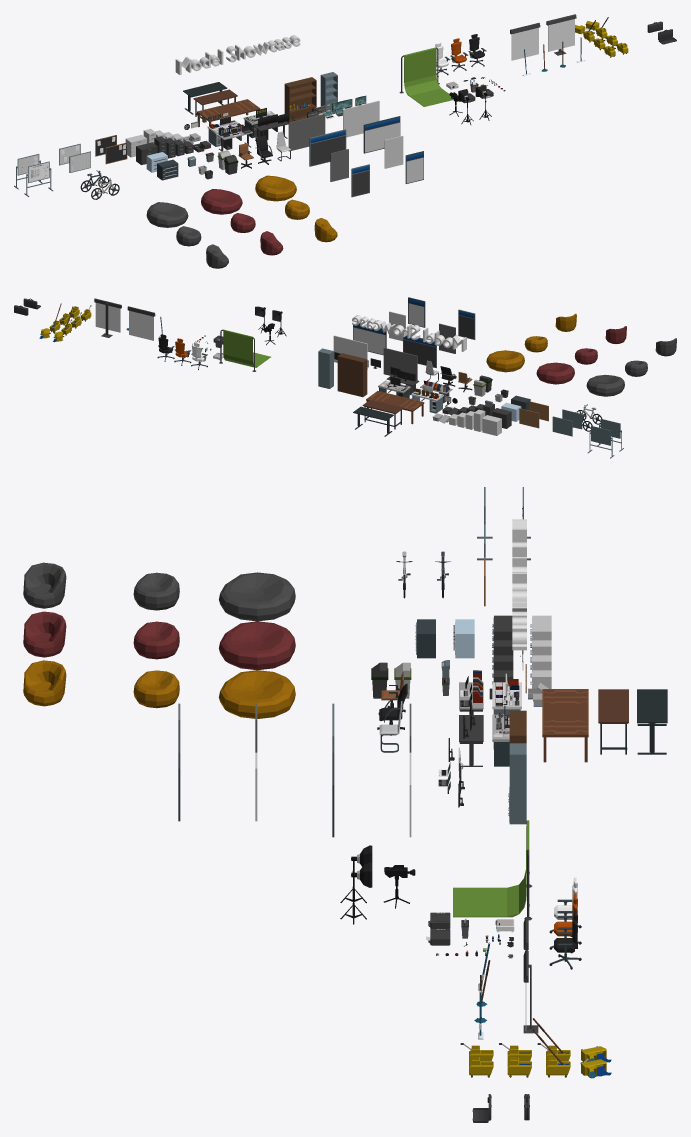
File: ModelShowcase.fbx
The picture shows the model from 3 angles, top to bottom: view 1: azimuth 30°, elevation 25°; view 2: azimuth 150°, elevation 25°; view 3: azimuth 270°, elevation 25°; orthographic projection. The views are drawn at different scales.
Parts seen in each view (by area): view 1: GreenScreenV1, ModelShowcase, BookshelfV1, CubicleWallV2Light, CubicleWallV2Dark, CubicleWallV1Black, CubicleWallV1White, SaccoChairV1Orange, SaccoChairV1Red, SaccoChairV1Grey, ProjectorScreenV1_Cloth, MeetingDeskV1 (+15 smaller); view 2: ModelShowcase, GreenScreenV1, BookshelfV1, CubicleWallV1Black, CubicleWallV2Dark, SaccoChairV1Orange, SaccoChairV1Red, SaccoChairV1Grey, CubicleWallV2Light, MeetingDeskV1, ProjectorScreenV1_Cloth, BookshelfV2 (+24 smaller); view 3: SaccoChairV1Red, SaccoChairV1Grey, SaccoChairV1Orange, GreenScreenV1, MeetingDeskV1, ModelShowcase, SaccoChairV3Red, SaccoChairV3Orange, SaccoChairV3Gray, BookshelfV2, SaccoChairV2Red, SaccoChairV2Grey (+3 smaller).
Part boxes in pixels (left/top/right/bottom): GreenScreenV1: left=399, top=47, right=453, bottom=106; ModelShowcase: left=175, top=35, right=300, bottom=74; BookshelfV1: left=284, top=77, right=316, bottom=122; CubicleWallV2Light: left=363, top=116, right=400, bottom=153; CubicleWallV2Dark: left=309, top=129, right=346, bottom=166; CubicleWallV1Black: left=288, top=114, right=325, bottom=151; CubicleWallV1White: left=343, top=100, right=379, bottom=137; SaccoChairV1Orange: left=255, top=175, right=296, bottom=201; SaccoChairV1Red: left=201, top=189, right=242, bottom=214; SaccoChairV1Grey: left=146, top=202, right=188, bottom=227; ProjectorScreenV1_Cloth: left=511, top=27, right=538, bottom=60; MeetingDeskV1: left=197, top=99, right=260, bottom=127; ModelShowcase: left=352, top=315, right=466, bottom=351; GreenScreenV1: left=219, top=329, right=270, bottom=371; BookshelfV1: left=337, top=353, right=367, bottom=397; CubicleWallV1Black: left=383, top=347, right=417, bottom=380; CubicleWallV2Dark: left=403, top=335, right=436, bottom=368; SaccoChairV1Orange: left=486, top=350, right=524, bottom=372; SaccoChairV1Red: left=536, top=362, right=574, bottom=384; SaccoChairV1Grey: left=586, top=374, right=624, bottom=396; CubicleWallV2Light: left=353, top=323, right=386, bottom=355; MeetingDeskV1: left=366, top=391, right=424, bottom=424; ProjectorScreenV1_Cloth: left=129, top=310, right=153, bottom=340; BookshelfV2: left=318, top=348, right=333, bottom=388; SaccoChairV1Red: left=219, top=621, right=295, bottom=670; SaccoChairV1Grey: left=219, top=572, right=295, bottom=621; SaccoChairV1Orange: left=218, top=670, right=295, bottom=718; GreenScreenV1: left=453, top=820, right=532, bottom=920; MeetingDeskV1: left=542, top=689, right=588, bottom=762; ModelShowcase: left=512, top=519, right=526, bottom=650; SaccoChairV3Red: left=23, top=611, right=66, bottom=657; SaccoChairV3Orange: left=23, top=660, right=66, bottom=706; SaccoChairV3Gray: left=23, top=562, right=66, bottom=608; BookshelfV2: left=509, top=743, right=526, bottom=824; SaccoChairV2Red: left=133, top=621, right=179, bottom=659; SaccoChairV2Grey: left=133, top=572, right=179, bottom=610.
Size of the model in its own units: 3578 by 477 by 1672.
